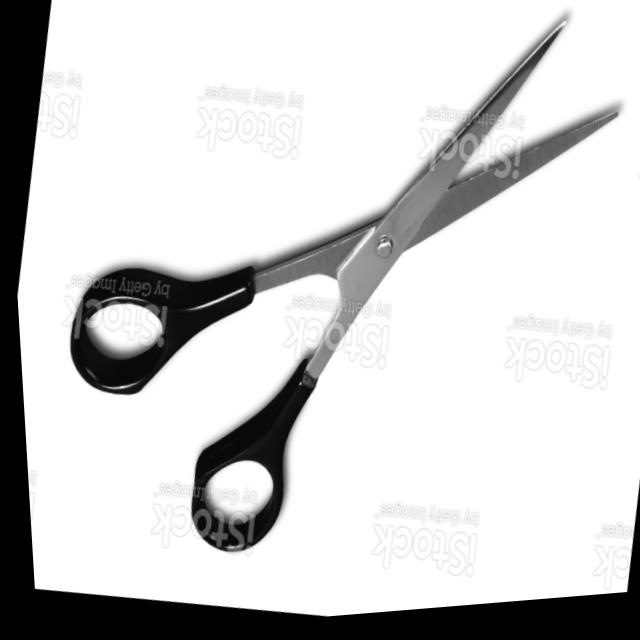scissor: (12, 0, 640, 633)
